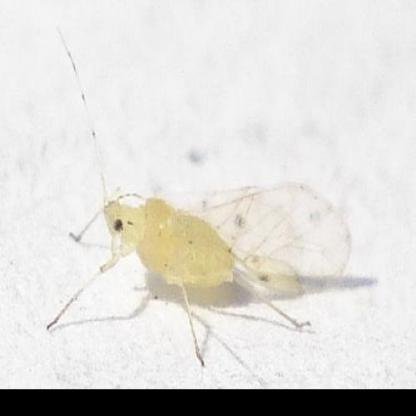aphid: (57, 109, 359, 366)
